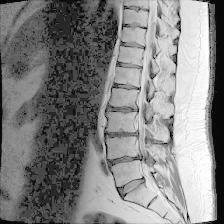disc: (114, 57, 148, 74), (119, 20, 148, 34), (122, 4, 154, 15)
hdisc: (112, 176, 152, 198), (104, 152, 143, 168), (100, 125, 140, 140), (110, 79, 146, 95), (102, 100, 141, 114), (117, 38, 148, 52)
